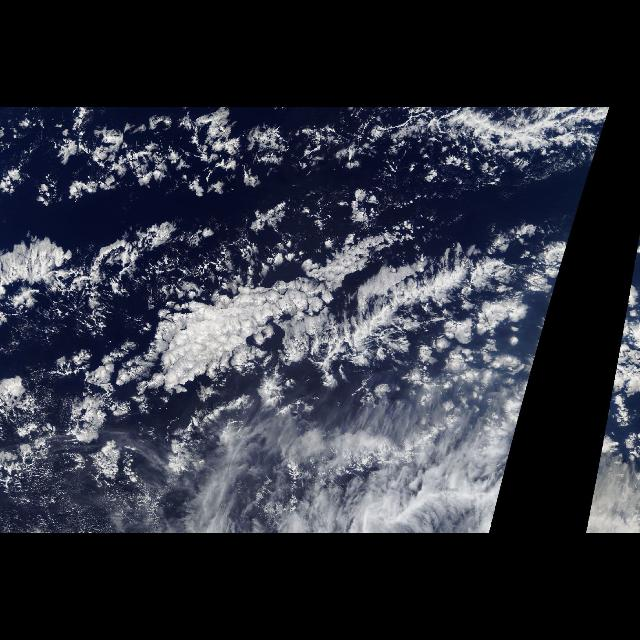Fish: (103, 211, 534, 403)
Flower: (1, 232, 362, 488)
